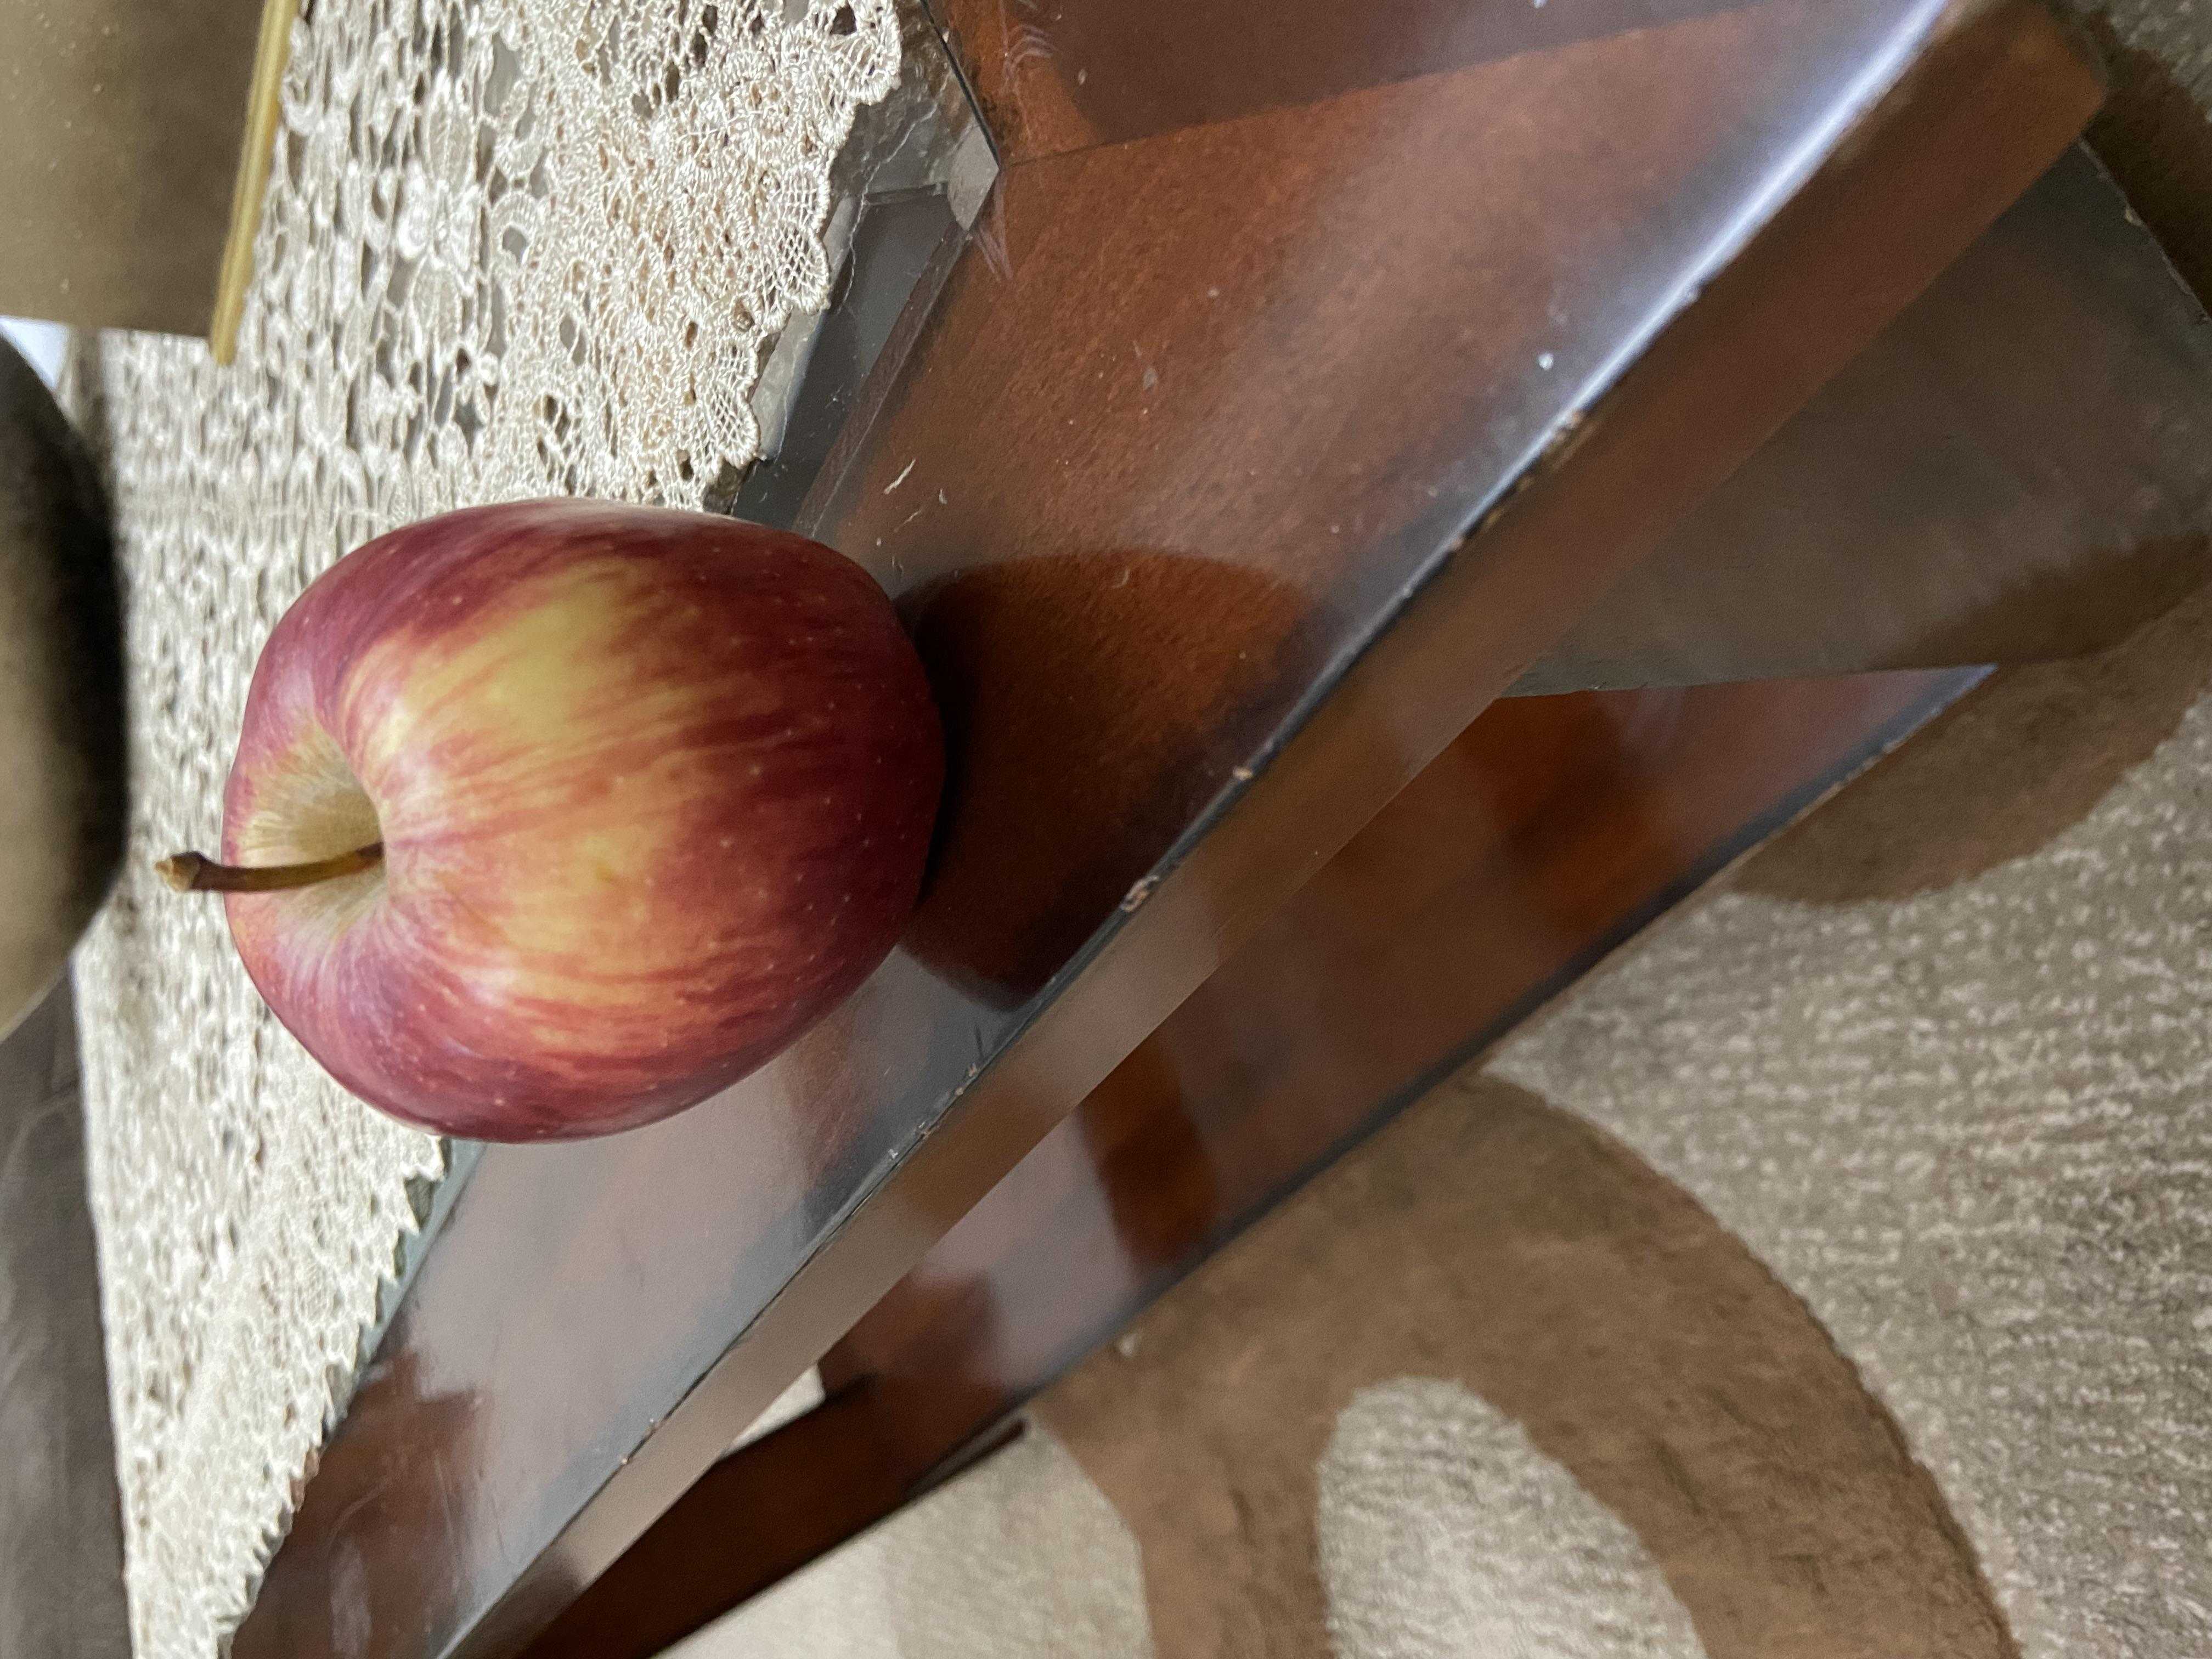Apple: (669, 103, 1573, 737)
